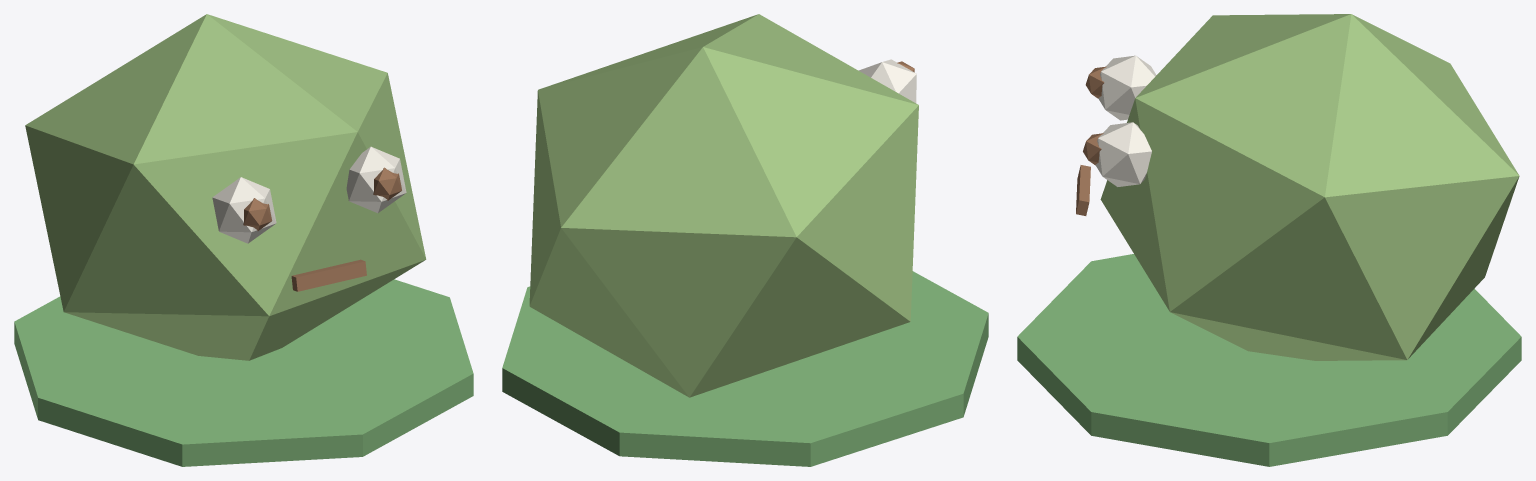
Rendered from npcpose_slime_attack_11.glb.
3 views of the same model, side by side, from view 1: azimuth 30°, elevation 25°; view 2: azimuth 150°, elevation 25°; view 3: azimuth 270°, elevation 25° (orthographic). The views are drawn at different scales.
Visible parts, largest first — view 1: npcpose; view 2: npcpose; view 3: npcpose.
Boxes of the visible parts, left/top/right/bottom form: npcpose: left=14, top=14, right=473, bottom=466; npcpose: left=502, top=14, right=988, bottom=466; npcpose: left=1017, top=14, right=1521, bottom=466.
Size of the model in its own units: 0.96 by 0.7313 by 0.96.
